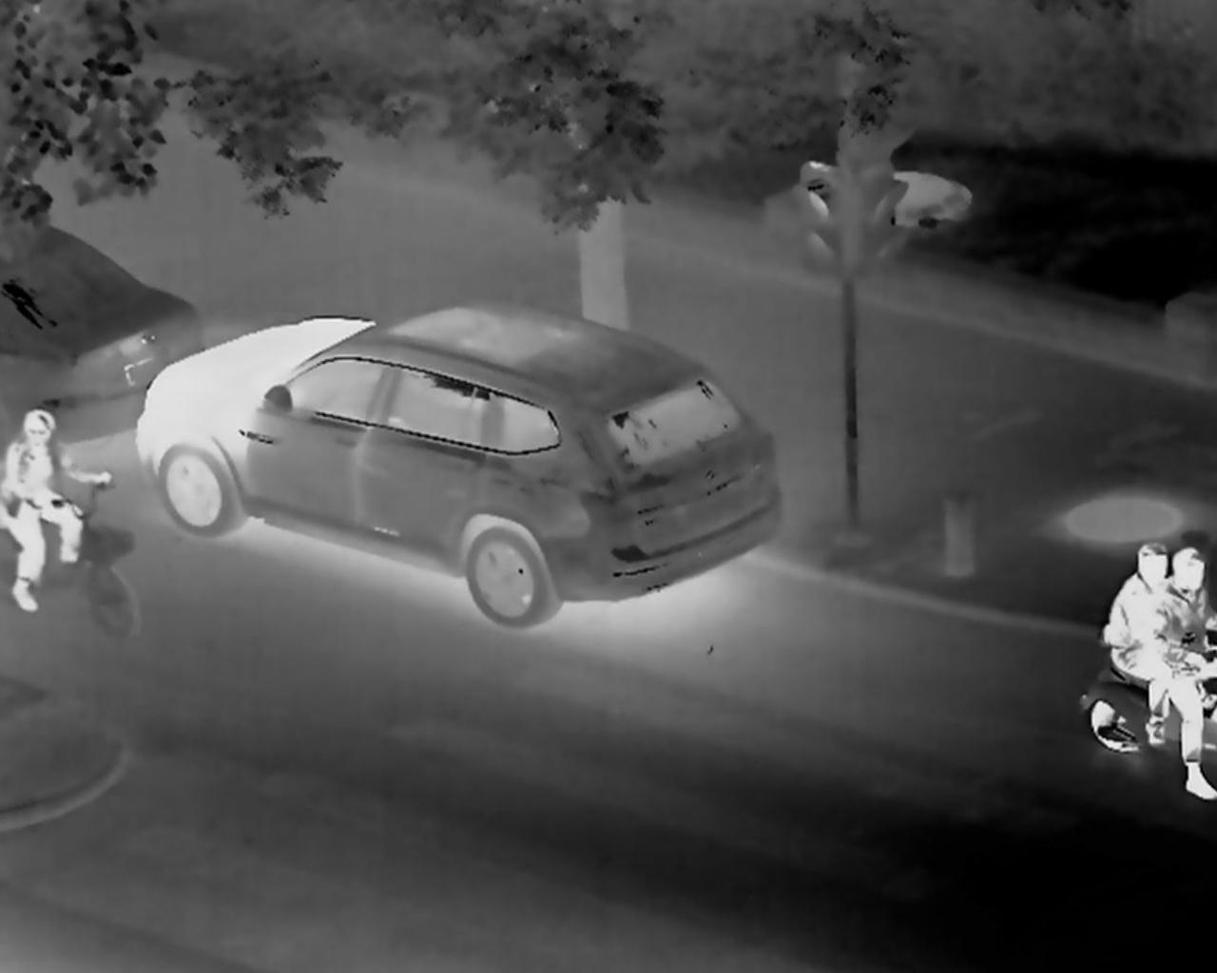person: (2, 402, 110, 616), (1132, 545, 1215, 810), (1093, 535, 1176, 748)
